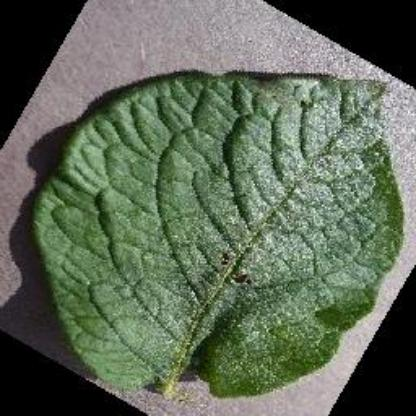Healthy-plant: (23, 36, 408, 408)
